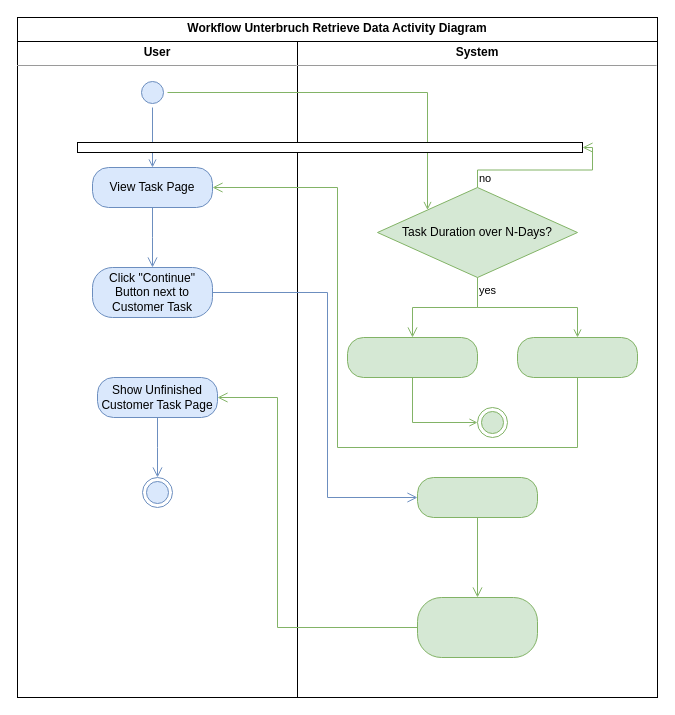
Some shapes in this 675 by 715 pixel diagram are drawn without their labels. Each missing label, with the centre of its shape:
"Fill out Form with saved Data" belongs at point (477, 627).
"Retrieve Task Data" belongs at point (477, 497).
"Send E-Mail with Link" belongs at point (412, 357).
"Visualize Task Duration" belongs at point (577, 357).
